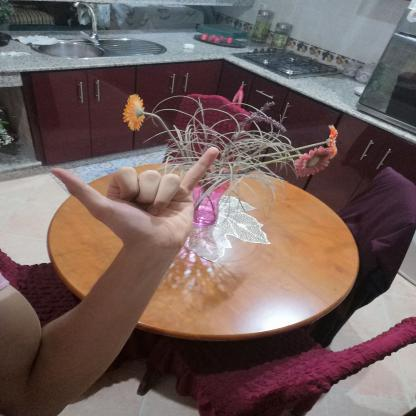YA: (34, 134, 232, 261)
